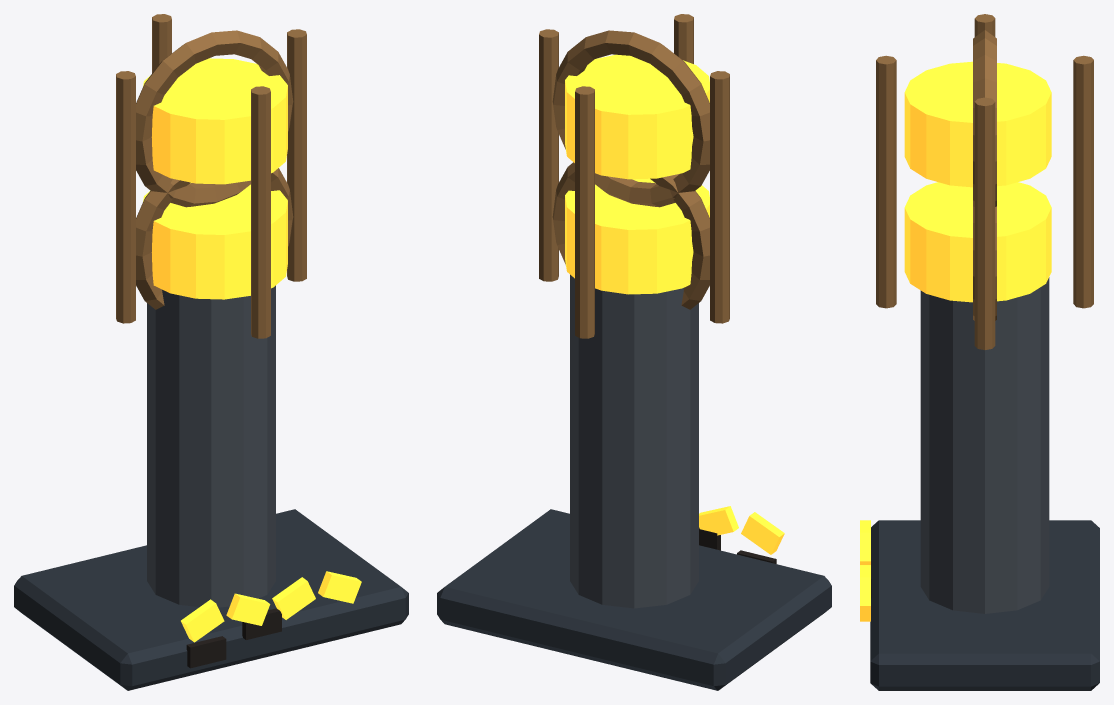
Rendered from runtime.glb.
The picture shows the model from 3 angles, left to right: view 1: azimuth 30°, elevation 25°; view 2: azimuth 150°, elevation 25°; view 3: azimuth 270°, elevation 25°; orthographic projection.
Visible parts, largest first — view 1: kinetic-tide-warning-beacon-v01_plate_nocol, kinetic-tide-warning-beacon-v01_steel_nocol, kinetic-tide-warning-beacon-v01_warningorange_nocol, kinetic-tide-warning-beacon-v01_bronze_nocol, kinetic-tide-warning-beacon-v01_weardark_nocol; view 2: kinetic-tide-warning-beacon-v01_plate_nocol, kinetic-tide-warning-beacon-v01_steel_nocol, kinetic-tide-warning-beacon-v01_bronze_nocol, kinetic-tide-warning-beacon-v01_warningorange_nocol, kinetic-tide-warning-beacon-v01_weardark_nocol; view 3: kinetic-tide-warning-beacon-v01_plate_nocol, kinetic-tide-warning-beacon-v01_steel_nocol, kinetic-tide-warning-beacon-v01_warningorange_nocol, kinetic-tide-warning-beacon-v01_bronze_nocol.
Part boxes in pixels (<box>): kinetic-tide-warning-beacon-v01_plate_nocol: <box>147,285,275,607</box>; kinetic-tide-warning-beacon-v01_steel_nocol: <box>14,509,408,690</box>; kinetic-tide-warning-beacon-v01_warningorange_nocol: <box>143,58,361,642</box>; kinetic-tide-warning-beacon-v01_bronze_nocol: <box>116,14,306,338</box>; kinetic-tide-warning-beacon-v01_weardark_nocol: <box>186,608,281,668</box>; kinetic-tide-warning-beacon-v01_plate_nocol: <box>570,274,698,608</box>; kinetic-tide-warning-beacon-v01_steel_nocol: <box>437,509,831,690</box>; kinetic-tide-warning-beacon-v01_bronze_nocol: <box>539,14,729,338</box>; kinetic-tide-warning-beacon-v01_warningorange_nocol: <box>565,54,784,554</box>; kinetic-tide-warning-beacon-v01_weardark_nocol: <box>699,527,776,563</box>; kinetic-tide-warning-beacon-v01_plate_nocol: <box>920,277,1049,613</box>; kinetic-tide-warning-beacon-v01_steel_nocol: <box>870,520,1099,690</box>; kinetic-tide-warning-beacon-v01_warningorange_nocol: <box>860,61,1051,621</box>; kinetic-tide-warning-beacon-v01_bronze_nocol: <box>876,14,1093,349</box>.
Bounding box in the file's own units: 1.52 × 2.96 × 1.1.
